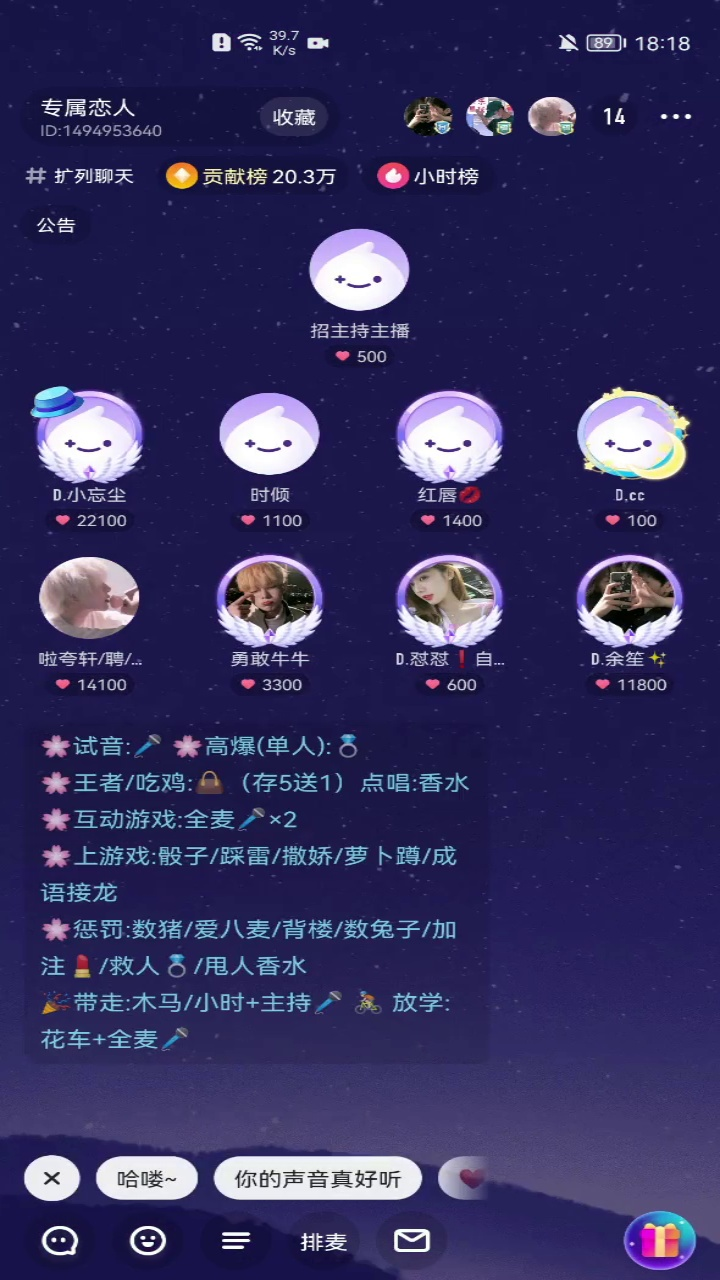avatar: (23, 378, 157, 488), (572, 381, 696, 486), (392, 386, 513, 486), (300, 224, 420, 317), (208, 385, 324, 478)
